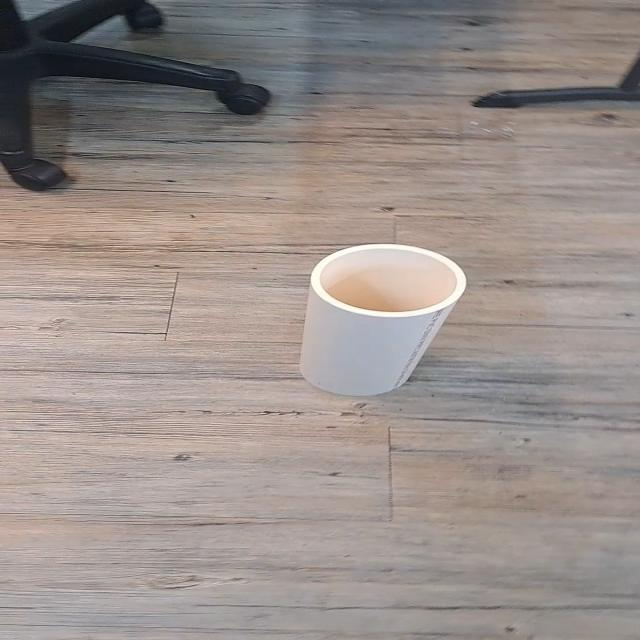CORAL: (294, 243, 478, 399)
